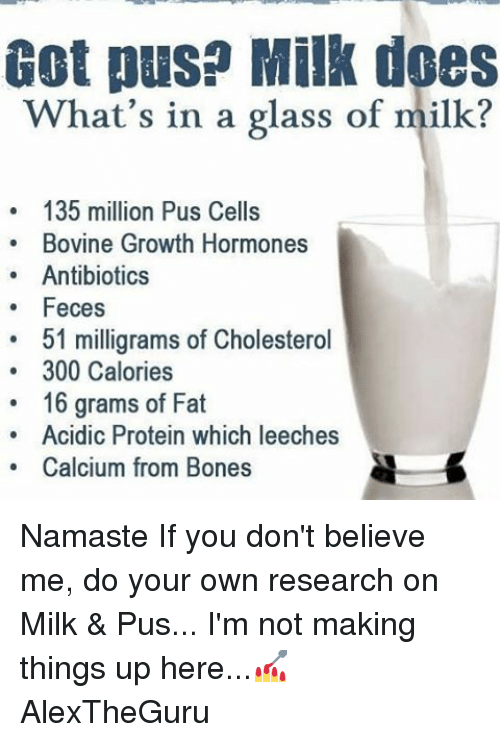glass of milk: (344, 215, 483, 500)
